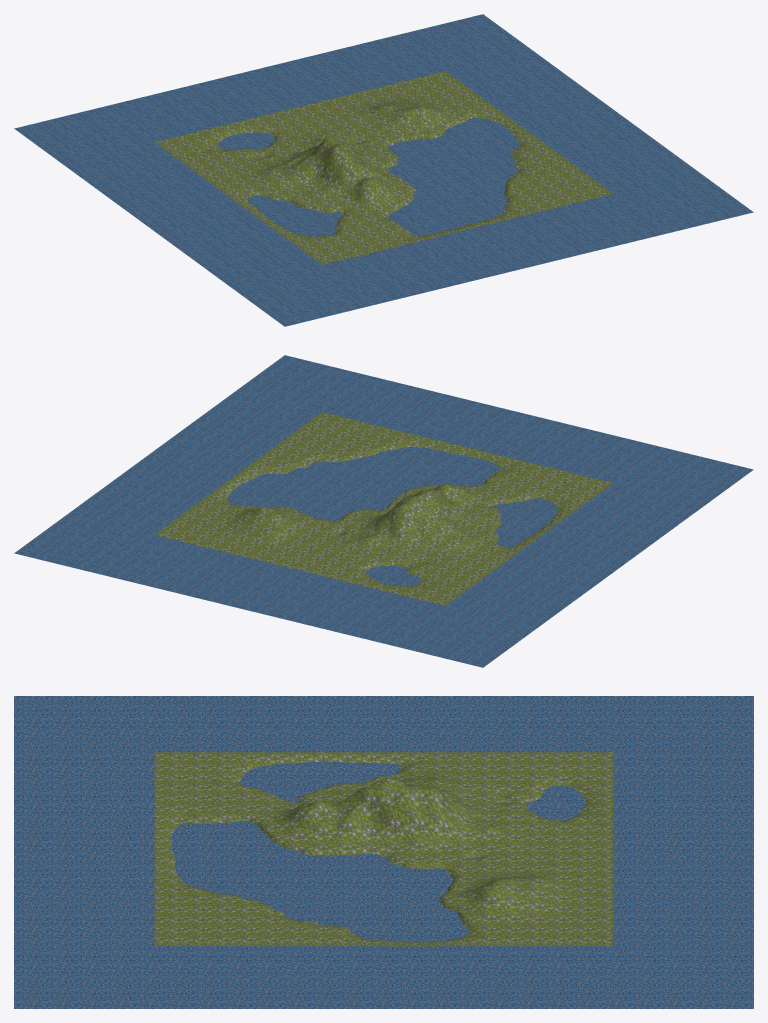
The model's file is lake.fbx.
The picture shows the model from 3 angles, top to bottom: view 1: azimuth 30°, elevation 25°; view 2: azimuth 150°, elevation 25°; view 3: azimuth 270°, elevation 25°; orthographic projection. The views are drawn at different scales.
Visible parts, largest first — view 1: Landscape.002; view 2: Landscape.002; view 3: Landscape.002.
Part boxes in pixels (x1,y1,x2,y2): Landscape.002: (14,14,753,326); Landscape.002: (14,355,753,667); Landscape.002: (14,696,753,1008).
Size of the model in its own units: 400 by 54.4 by 400.
2 materials, 2 textured.
